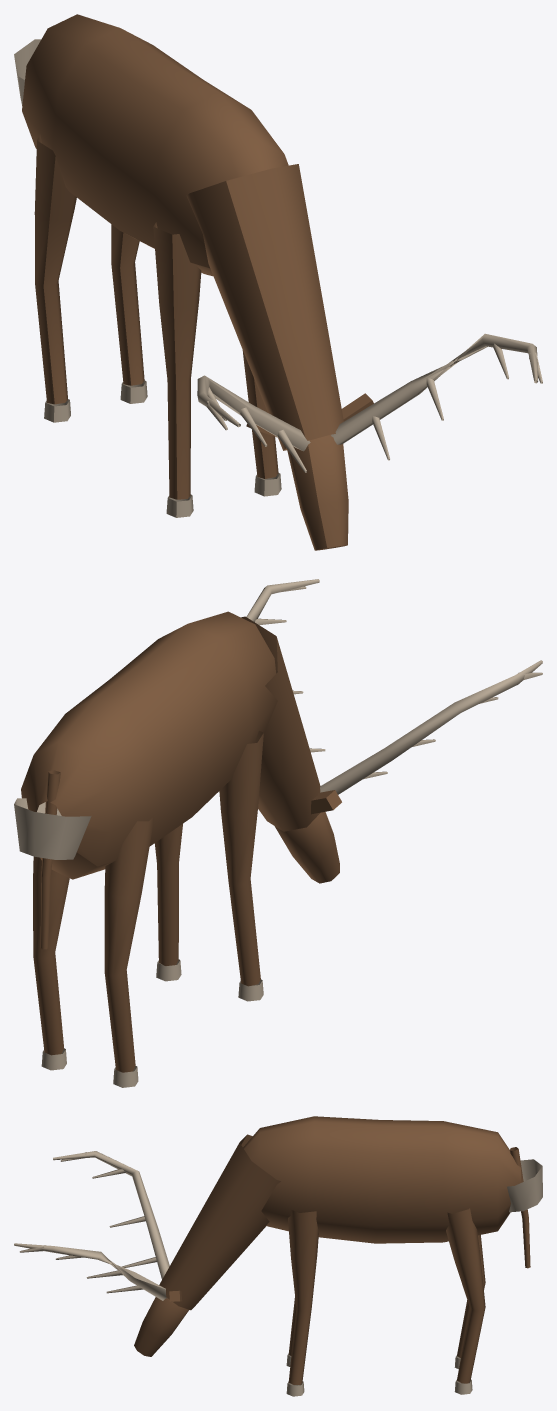
The model's file is deer-grazing.glb.
The picture shows the model from 3 angles, top to bottom: view 1: azimuth 30°, elevation 25°; view 2: azimuth 150°, elevation 25°; view 3: azimuth 270°, elevation 25°; orthographic projection. The views are drawn at different scales.
Visible parts, largest first — view 1: deer-grazing, deer-grazing-pale; view 2: deer-grazing, deer-grazing-pale; view 3: deer-grazing, deer-grazing-pale.
Boxes of the visible parts, x1,y1,x2,y2 form: deer-grazing: [22, 14, 373, 550]; deer-grazing-pale: [14, 39, 542, 517]; deer-grazing: [21, 611, 341, 1072]; deer-grazing-pale: [14, 579, 542, 1087]; deer-grazing: [134, 1116, 530, 1384]; deer-grazing-pale: [14, 1151, 542, 1396].
Bounding box in the file's own units: 1.01 × 1.25 × 2.31.
